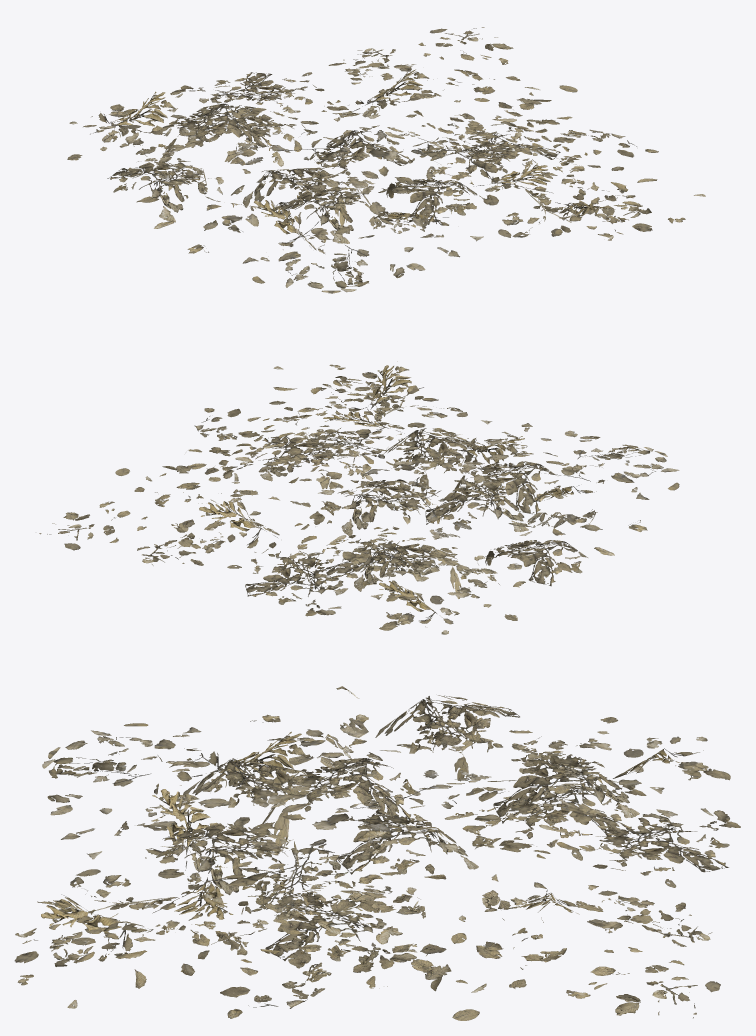
Rendered from SM_Leaves_Ground_03.fbx.
3 views of the same model, one above another, from view 1: azimuth 30°, elevation 25°; view 2: azimuth 150°, elevation 25°; view 3: azimuth 270°, elevation 25° (orthographic). The views are drawn at different scales.
Visible parts, largest first — view 1: SM_Leaves_Ground_03; view 2: SM_Leaves_Ground_03; view 3: SM_Leaves_Ground_03.
Part boxes in pixels (x1,y1,x2,y2): SM_Leaves_Ground_03: [67, 27, 705, 293]; SM_Leaves_Ground_03: [39, 361, 679, 634]; SM_Leaves_Ground_03: [14, 686, 740, 1020].
Size of the model in its own units: 402 by 390 by 37.76.
Materials: 1 (1 with a texture image).
